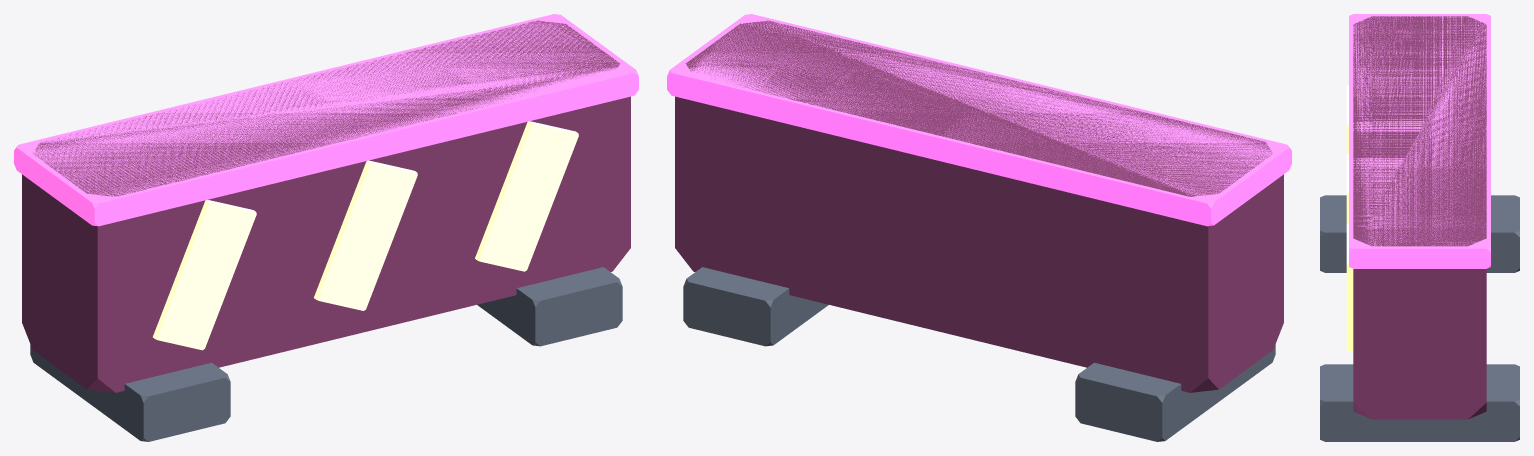
File: Pulse-Barricade-v3.0.0.glb
3 views of the same model, side by side, from view 1: azimuth 30°, elevation 25°; view 2: azimuth 150°, elevation 25°; view 3: azimuth 270°, elevation 25° (orthographic). The views are drawn at different scales.
Visible parts, largest first — view 1: body, glowBand, footR, stripe1, stripe2, stripe0, footL; view 2: body, glowBand, footR, footL; view 3: body, glowBand, footL, footR, stripe2, stripe1, stripe0.
Boxes of the visible parts, x1,y1,x2,y2 form: body: (22, 20, 630, 392); glowBand: (14, 14, 638, 226); footR: (30, 344, 230, 441); stripe1: (314, 160, 417, 310); stripe2: (475, 121, 578, 271); stripe0: (153, 200, 256, 350); footL: (477, 267, 622, 346); body: (675, 20, 1283, 392); glowBand: (667, 14, 1291, 226); footR: (1075, 344, 1275, 441); footL: (683, 267, 828, 346); body: (1353, 16, 1486, 419); glowBand: (1349, 14, 1490, 268); footL: (1320, 364, 1519, 441); footR: (1320, 195, 1519, 272); stripe2: (1346, 223, 1353, 351); stripe1: (1346, 154, 1348, 224); stripe0: (1346, 84, 1348, 154).
Size of the model in its own units: 2.5 by 1.03 by 0.9.
